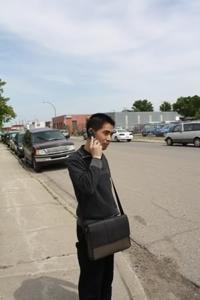person without safety: (64, 113, 127, 300)
